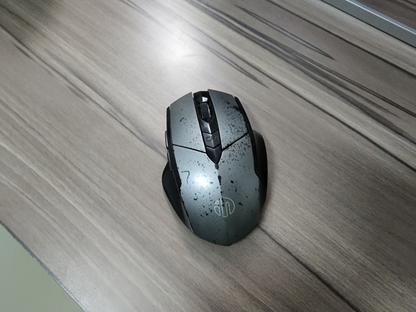mouse: (159, 87, 269, 247)
